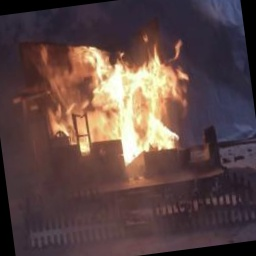fire: (31, 28, 197, 165)
